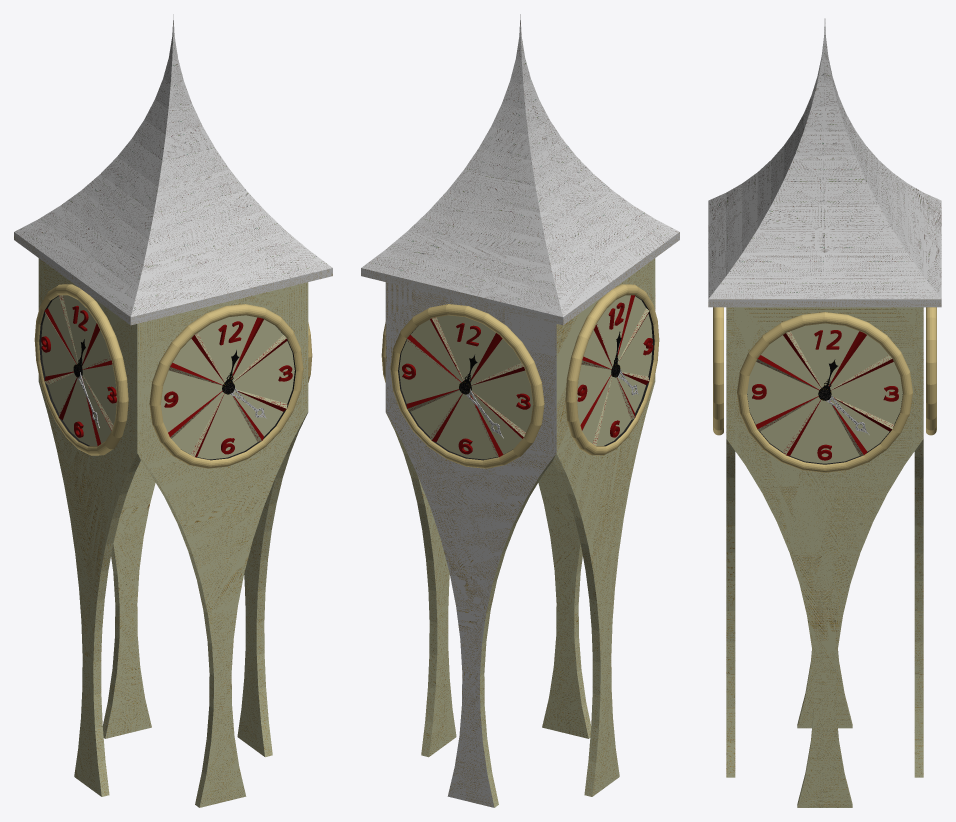
The picture shows the model from 3 angles, left to right: view 1: azimuth 30°, elevation 25°; view 2: azimuth 150°, elevation 25°; view 3: azimuth 270°, elevation 25°; orthographic projection.
Visible parts, largest first — view 1: mesh51_mesh51-geometry, mesh41_mesh41-geometry, mesh32_mesh32-geometry; view 2: mesh51_mesh51-geometry, mesh23_mesh23-geometry, mesh32_mesh32-geometry; view 3: mesh51_mesh51-geometry, mesh50_mesh50-geometry, mesh41_mesh41-geometry, mesh23_mesh23-geometry.
Boxes of the visible parts, box(x1,y1,x2,y2) form: mesh51_mesh51-geometry: box(14, 14, 332, 807); mesh41_mesh41-geometry: box(149, 304, 303, 468); mesh32_mesh32-geometry: box(34, 284, 128, 455); mesh51_mesh51-geometry: box(361, 14, 679, 807); mesh23_mesh23-geometry: box(390, 304, 544, 468); mesh32_mesh32-geometry: box(565, 284, 659, 455); mesh51_mesh51-geometry: box(708, 18, 941, 807); mesh50_mesh50-geometry: box(737, 312, 912, 472); mesh41_mesh41-geometry: box(713, 307, 723, 435); mesh23_mesh23-geometry: box(926, 307, 936, 435).
Size of the model in its own units: 0.2613 by 0.9292 by 0.2613.
Materials: 13 (2 with a texture image).
